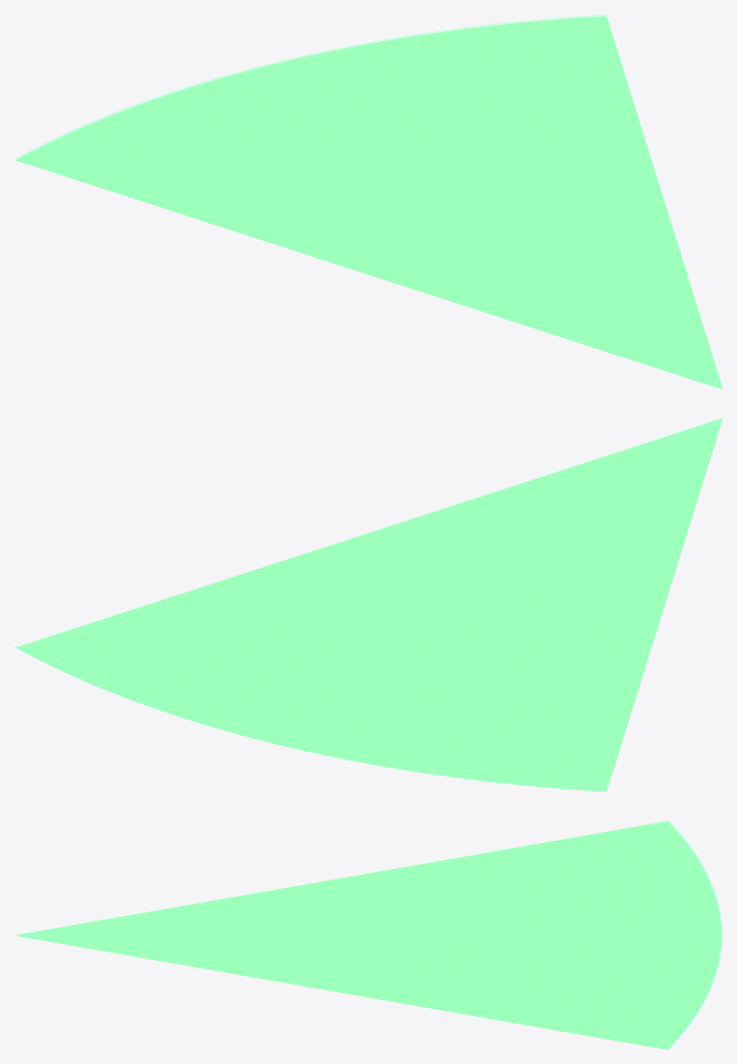
File: SM_VR_ScanFan.fbx
3 views of the same model, one above another, from view 1: azimuth 30°, elevation 25°; view 2: azimuth 150°, elevation 25°; view 3: azimuth 270°, elevation 25° (orthographic). The views are drawn at different scales.
Visible parts, largest first — view 1: SM_VR_ScanFan; view 2: SM_VR_ScanFan; view 3: SM_VR_ScanFan.
Part boxes in pixels (left/top/right/bottom): SM_VR_ScanFan: left=15, top=14, right=722, bottom=389; SM_VR_ScanFan: left=15, top=418, right=722, bottom=791; SM_VR_ScanFan: left=14, top=820, right=722, bottom=1049.
Bounding box in the file's own units: 230 × 301 × 0.4.
